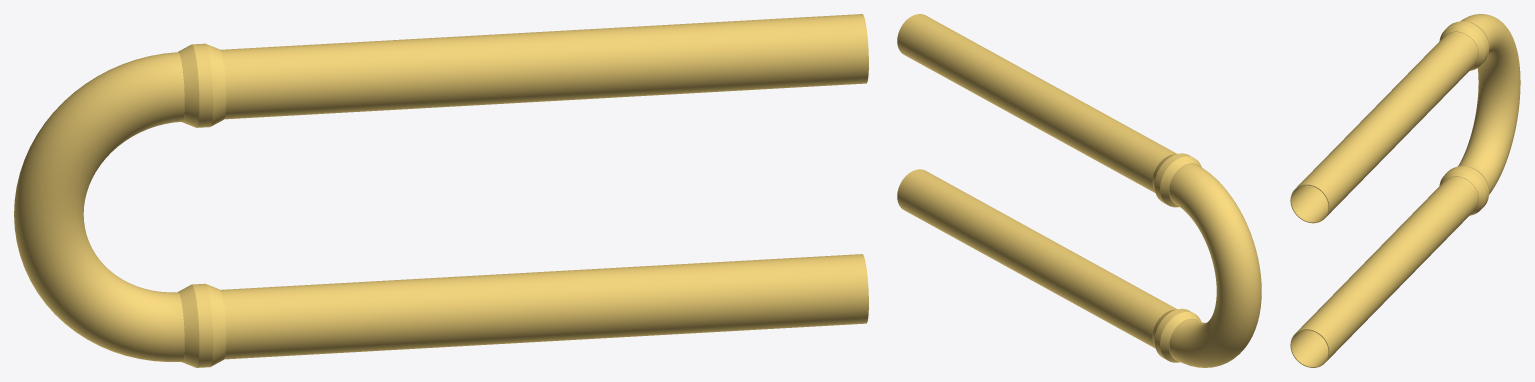
File: slide-assy.fbx
The picture shows the model from 3 angles, left to right: view 1: azimuth 30°, elevation 25°; view 2: azimuth 150°, elevation 25°; view 3: azimuth 270°, elevation 25°; orthographic projection. The views are drawn at different scales.
Parts seen in each view (by area): view 1: Part 2 <1>, Part 1 <2>, Part 1 <1>, Part 2 <2>, Part 1 <3>; view 2: Part 2 <1>, Part 1 <2>, Part 1 <1>, Part 2 <2>, Part 1 <3>; view 3: Part 1 <2>, Part 2 <1>, Part 1 <1>, Part 2 <2>, Part 1 <3>.
Part boxes in pixels (box(x1,y1,x2,y2)): Part 2 <1>: box(220, 254, 868, 359); Part 1 <2>: box(220, 14, 868, 119); Part 1 <1>: box(14, 52, 184, 361); Part 2 <2>: box(178, 283, 226, 367); Part 1 <3>: box(178, 43, 226, 127); Part 2 <1>: box(897, 169, 1176, 348); Part 1 <2>: box(897, 14, 1176, 192); Part 1 <1>: box(1169, 163, 1261, 367); Part 2 <2>: box(1152, 308, 1201, 362); Part 1 <3>: box(1152, 153, 1201, 207); Part 1 <2>: box(1290, 32, 1478, 223); Part 2 <1>: box(1290, 176, 1478, 367); Part 1 <1>: box(1458, 14, 1520, 194); Part 2 <2>: box(1439, 166, 1488, 215); Part 1 <3>: box(1439, 21, 1488, 70).
Size of the model in its own units: 0.1841 by 0.0794 by 0.0869.
